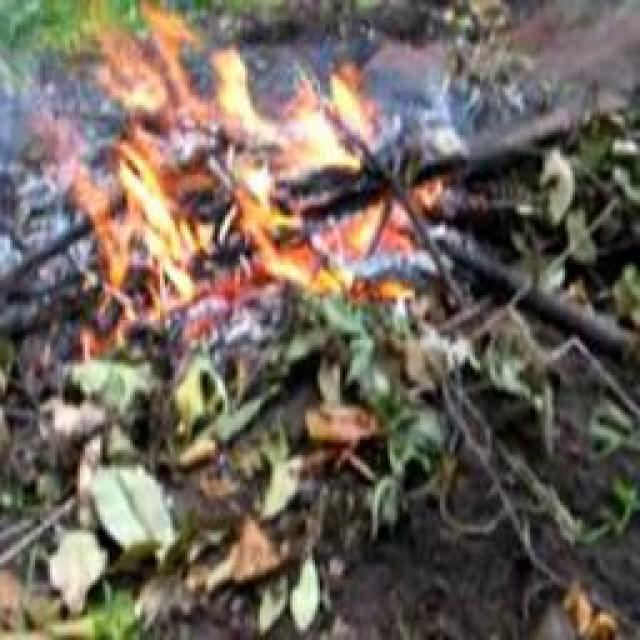Fire: (86, 45, 418, 305)
